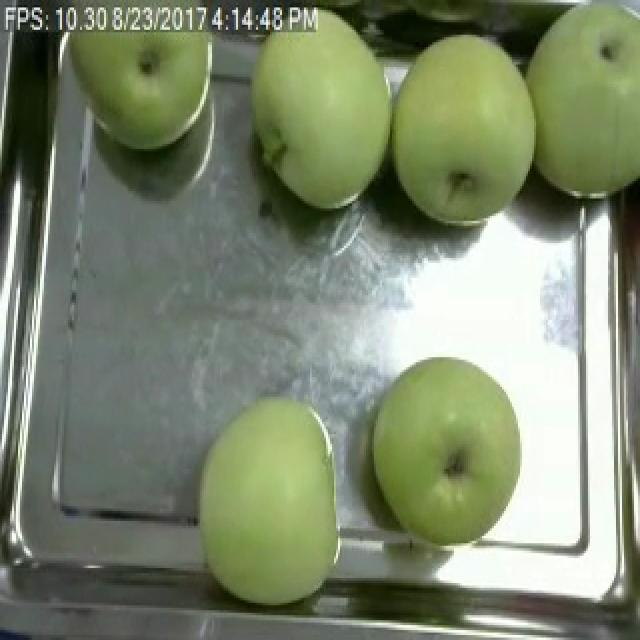50-_ripeness: (196, 395, 342, 607), (245, 6, 391, 212), (394, 29, 539, 232), (375, 352, 524, 546), (66, 5, 219, 164), (524, 0, 640, 202)
